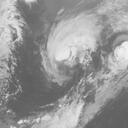cyclone: (41, 14, 99, 68)
